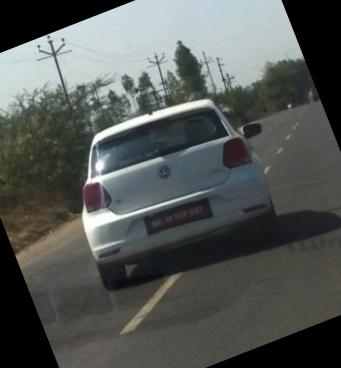plate: (123, 181, 225, 257)
